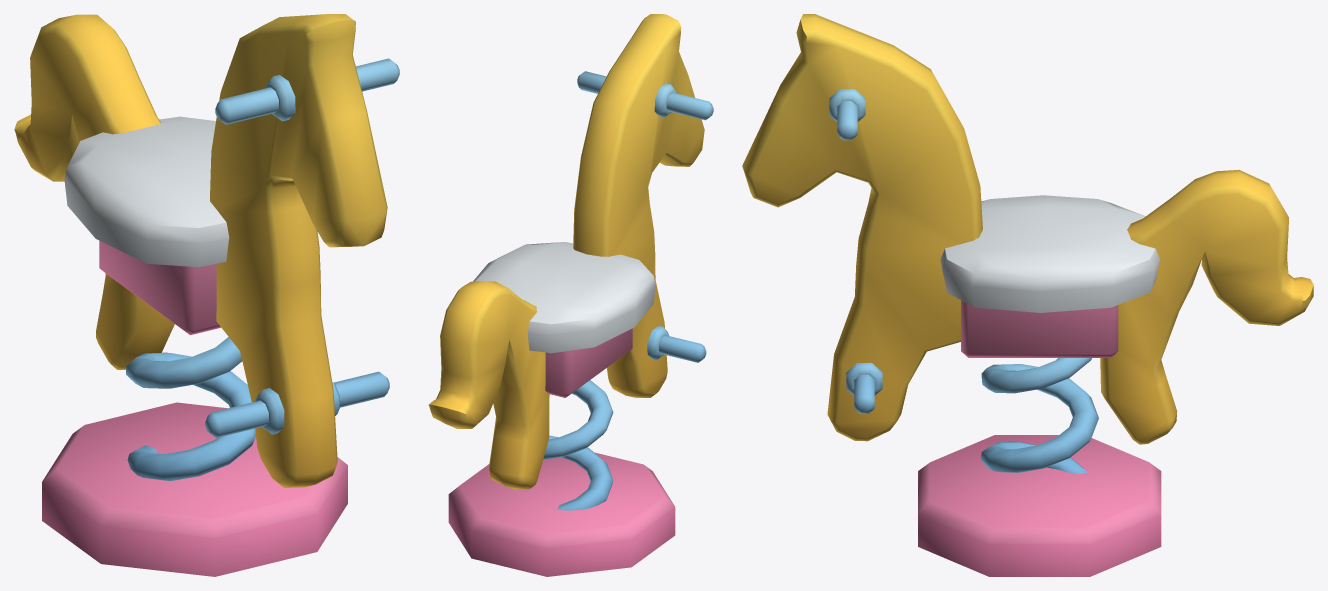
The model's file is spring_horse_A.glb.
3 views of the same model, side by side, from view 1: azimuth 30°, elevation 25°; view 2: azimuth 150°, elevation 25°; view 3: azimuth 270°, elevation 25° (orthographic). The views are drawn at different scales.
Visible parts, largest first — view 1: spring_horse_A_seat, spring_horse_A; view 2: spring_horse_A_seat, spring_horse_A; view 3: spring_horse_A_seat, spring_horse_A.
Boxes of the visible parts, <box> form: spring_horse_A_seat: <box>14,14,399,487</box>; spring_horse_A: <box>42,402,347,576</box>; spring_horse_A_seat: <box>428,14,713,510</box>; spring_horse_A: <box>448,452,675,576</box>; spring_horse_A_seat: <box>742,14,1313,474</box>; spring_horse_A: <box>918,435,1161,576</box>.
Size of the model in its own units: 1 by 2.3 by 2.35.
1 material, 1 textured.
